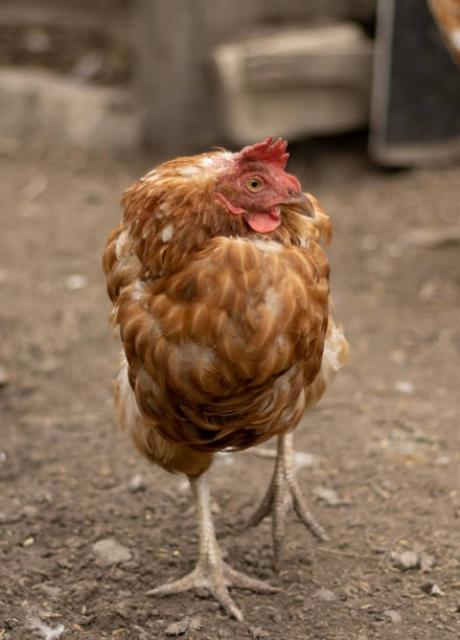Chicken: (103, 134, 353, 623)
